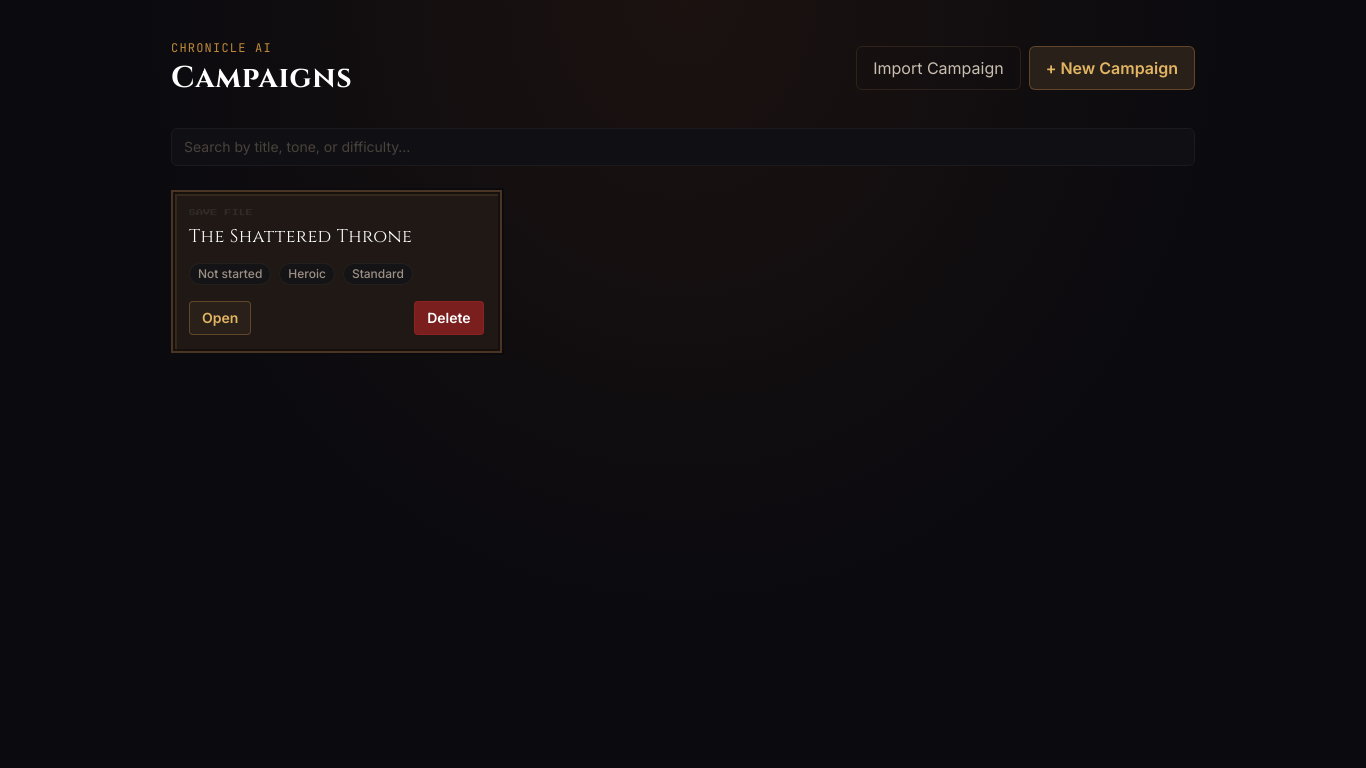
Scenario: CampaignLibraryPage — delete › cancels the dialog without deleting
The image size is (1366, 768).
Check: the heading "The Shattered Throne" is shown, box 189,224 -> 412,248
Click the button "Delete".
click(449, 318)  # box 414,300 -> 484,334
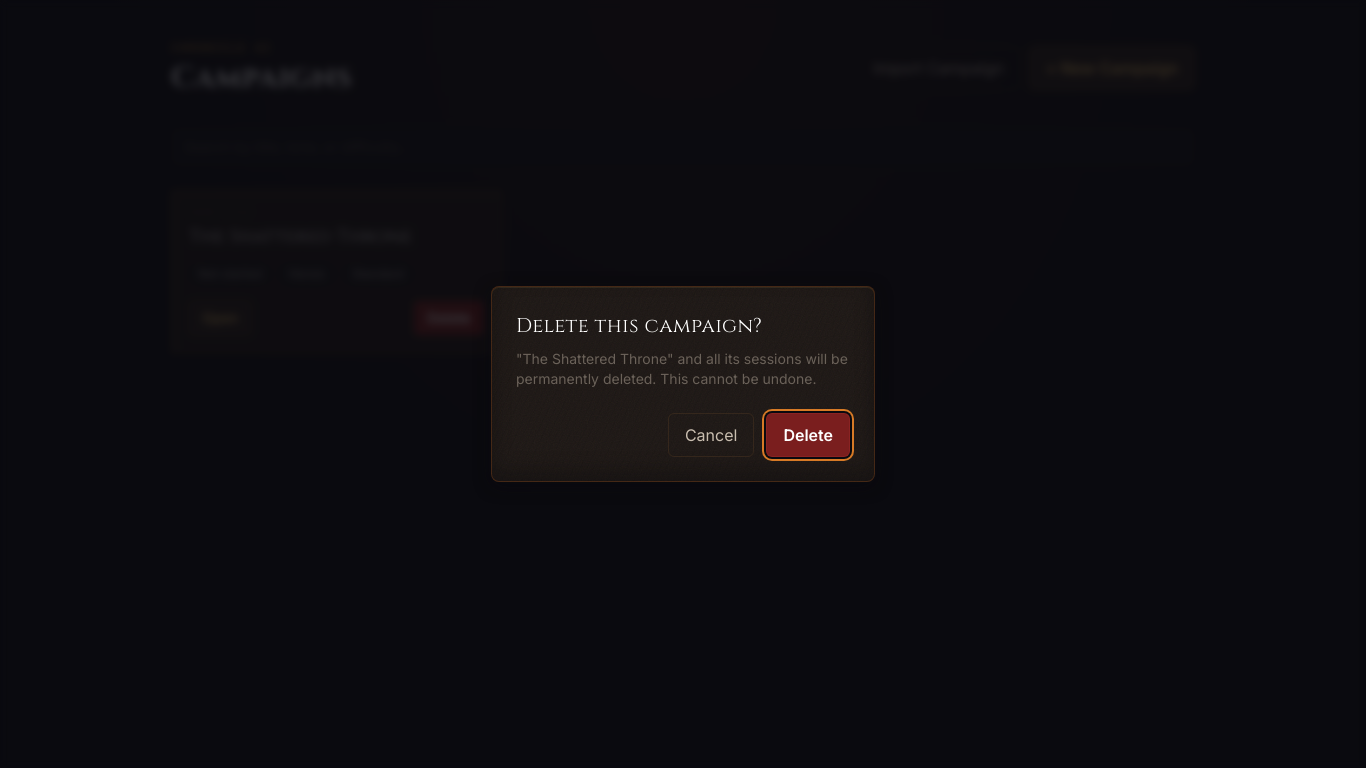
Click the button "Cancel".
click(711, 435)  # box 668,413 -> 754,457
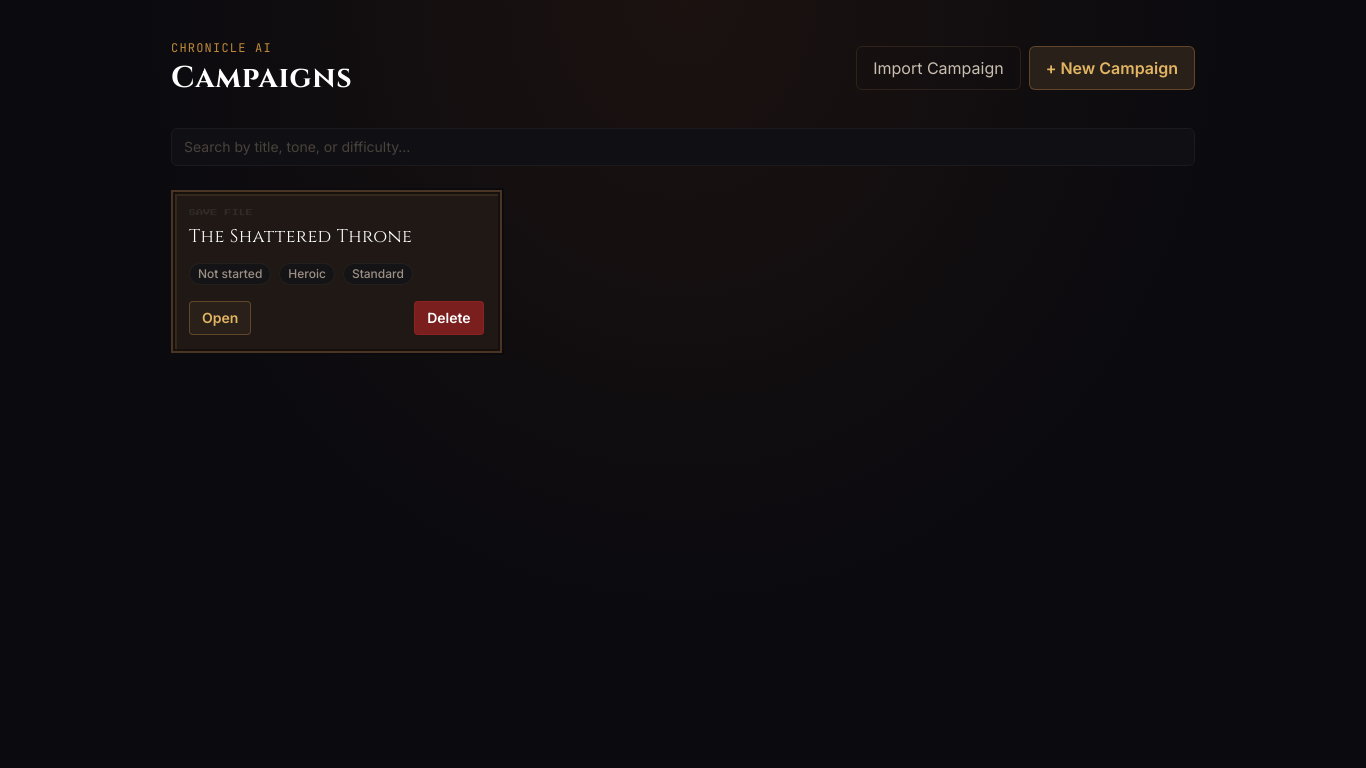
Check: the heading "The Shattered Throne" is shown, box 189,224 -> 412,248
Check: the dialog is gone
